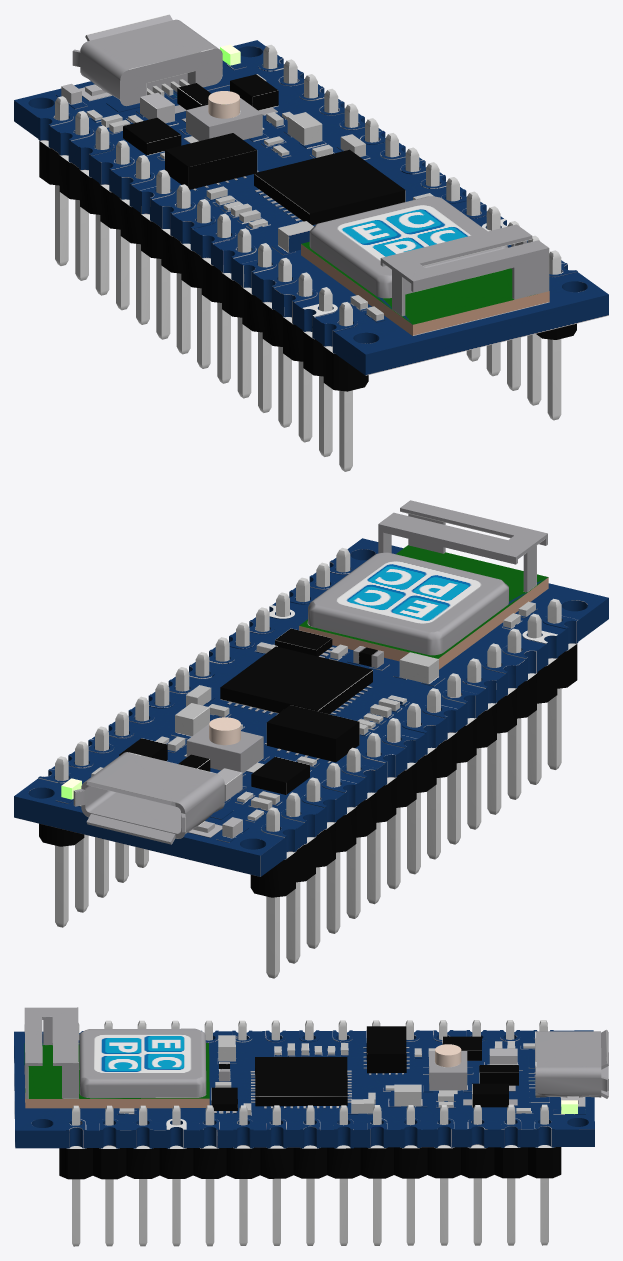
The model's file is Arduino.glb.
3 views of the same model, one above another, from view 1: azimuth 30°, elevation 25°; view 2: azimuth 150°, elevation 25°; view 3: azimuth 270°, elevation 25° (orthographic). The views are drawn at different scales.
Parts seen in each view (by area): view 1: arduino, arduino_pins; view 2: arduino, arduino_pins; view 3: arduino, arduino_pins.
Boxes of the visible parts, x1,y1,x2,y2 form: arduino: [14, 14, 608, 375]; arduino_pins: [39, 44, 576, 471]; arduino: [14, 500, 608, 876]; arduino_pins: [39, 547, 577, 978]; arduino: [14, 1007, 608, 1148]; arduino_pins: [59, 1020, 561, 1246].
Bounding box in the file's own units: 0.4385 × 0.3425 × 1.1.
4 materials, 1 textured.
